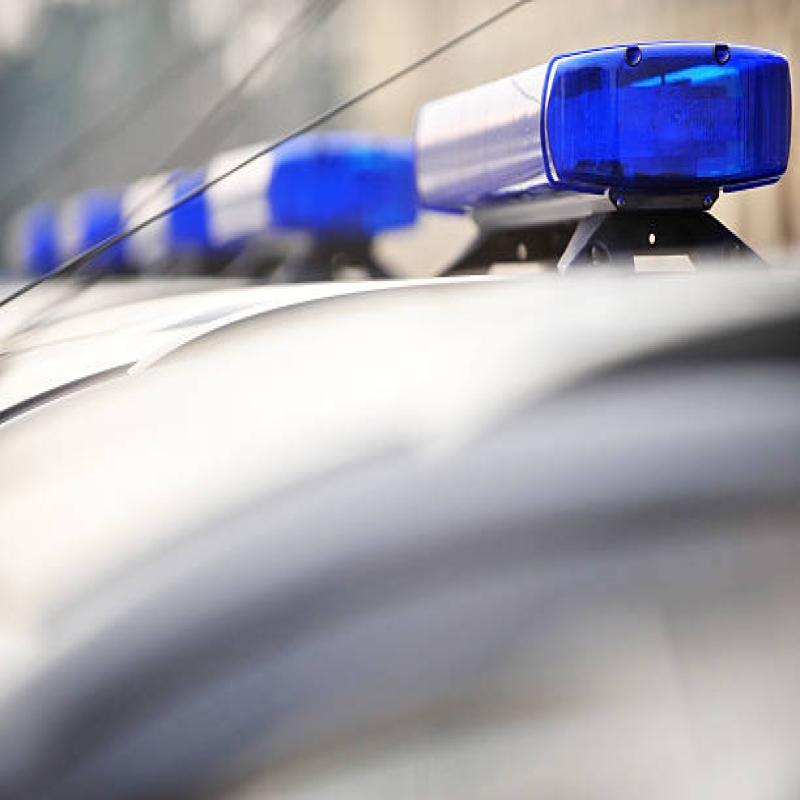AmbulanceSiren: (408, 34, 800, 257), (169, 129, 413, 279)
